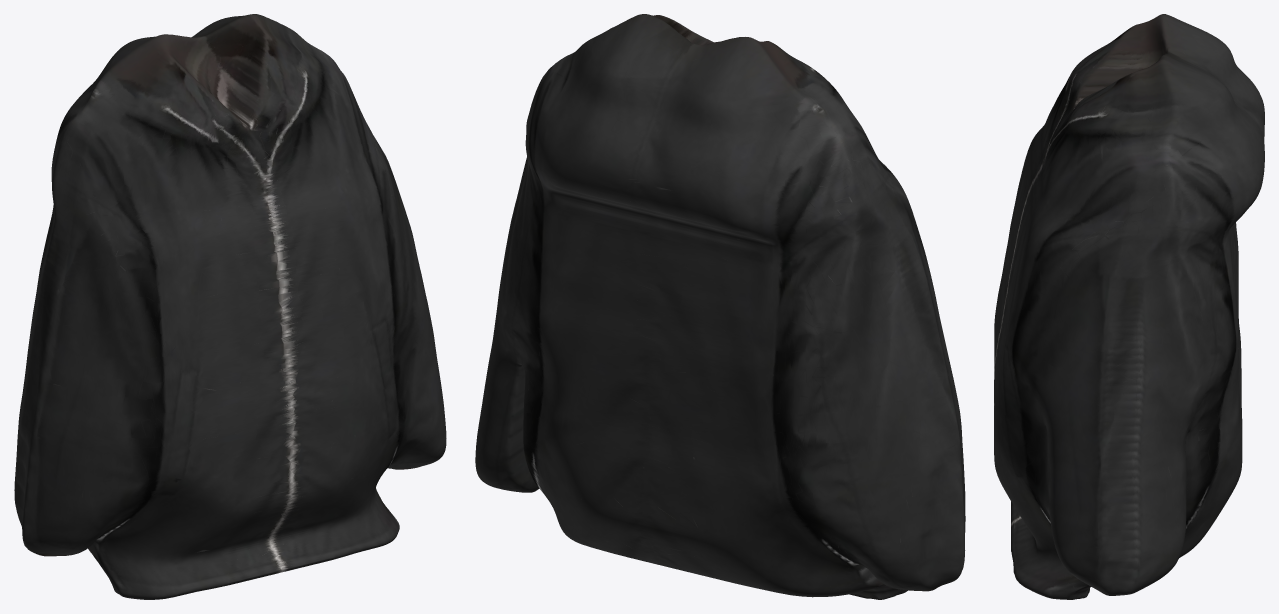
File: NF008-worn-v3.glb
3 views of the same model, side by side, from view 1: azimuth 30°, elevation 25°; view 2: azimuth 150°, elevation 25°; view 3: azimuth 270°, elevation 25° (orthographic). The views are drawn at different scales.
Visible parts, largest first — view 1: NF008_worn_photo_fitted; view 2: NF008_worn_photo_fitted; view 3: NF008_worn_photo_fitted.
Part boxes in pixels (x1,y1,x2,y2): NF008_worn_photo_fitted: [14, 14, 446, 599]; NF008_worn_photo_fitted: [475, 14, 965, 599]; NF008_worn_photo_fitted: [994, 14, 1264, 599].
Bounding box in the file's own units: 0.6197 × 0.7164 × 0.3474.
Materials: 1 (1 with a texture image).
